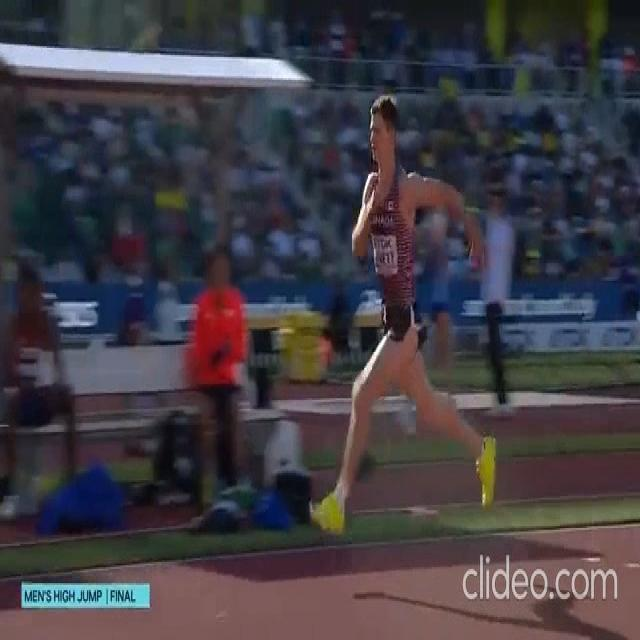run: (305, 96, 496, 516)
